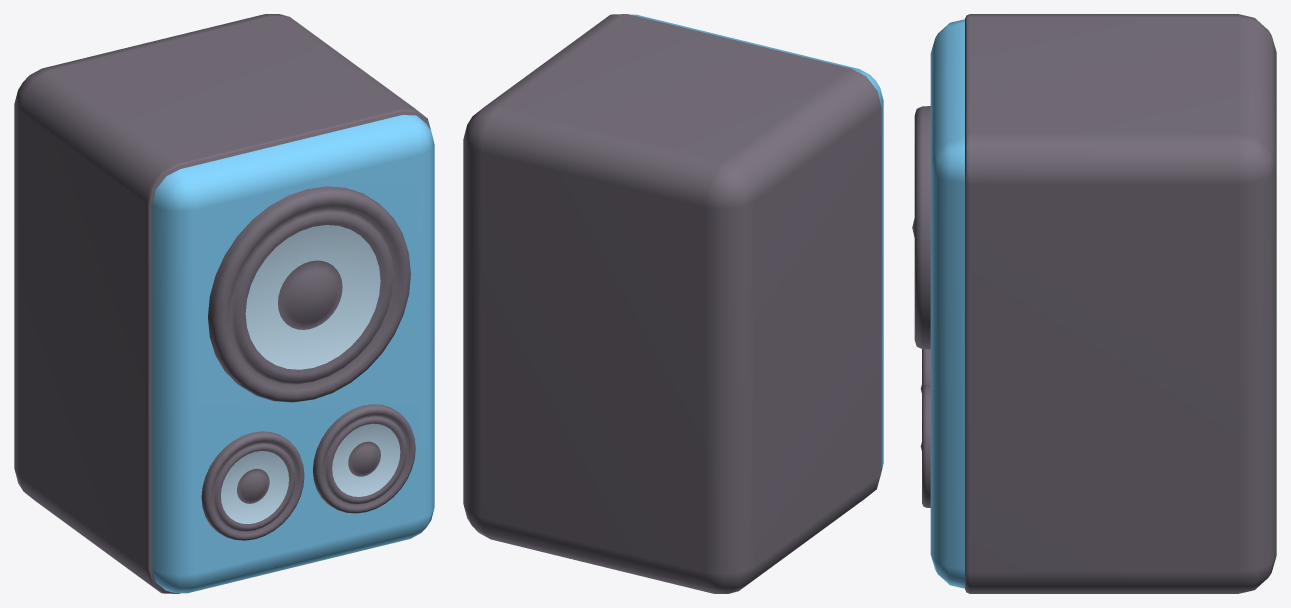
File: Speaker_03.fbx
3 views of the same model, side by side, from view 1: azimuth 30°, elevation 25°; view 2: azimuth 150°, elevation 25°; view 3: azimuth 270°, elevation 25° (orthographic). The views are drawn at different scales.
Visible parts, largest first — view 1: Speaker_03; view 2: Speaker_03; view 3: Speaker_03.
Boxes of the visible parts, <box> form: Speaker_03: <box>14,14,434,593</box>; Speaker_03: <box>463,14,883,593</box>; Speaker_03: <box>912,14,1276,593</box>.
Bounding box in the file's own units: 47.82 × 68.72 × 49.64.
1 material, 1 textured.
